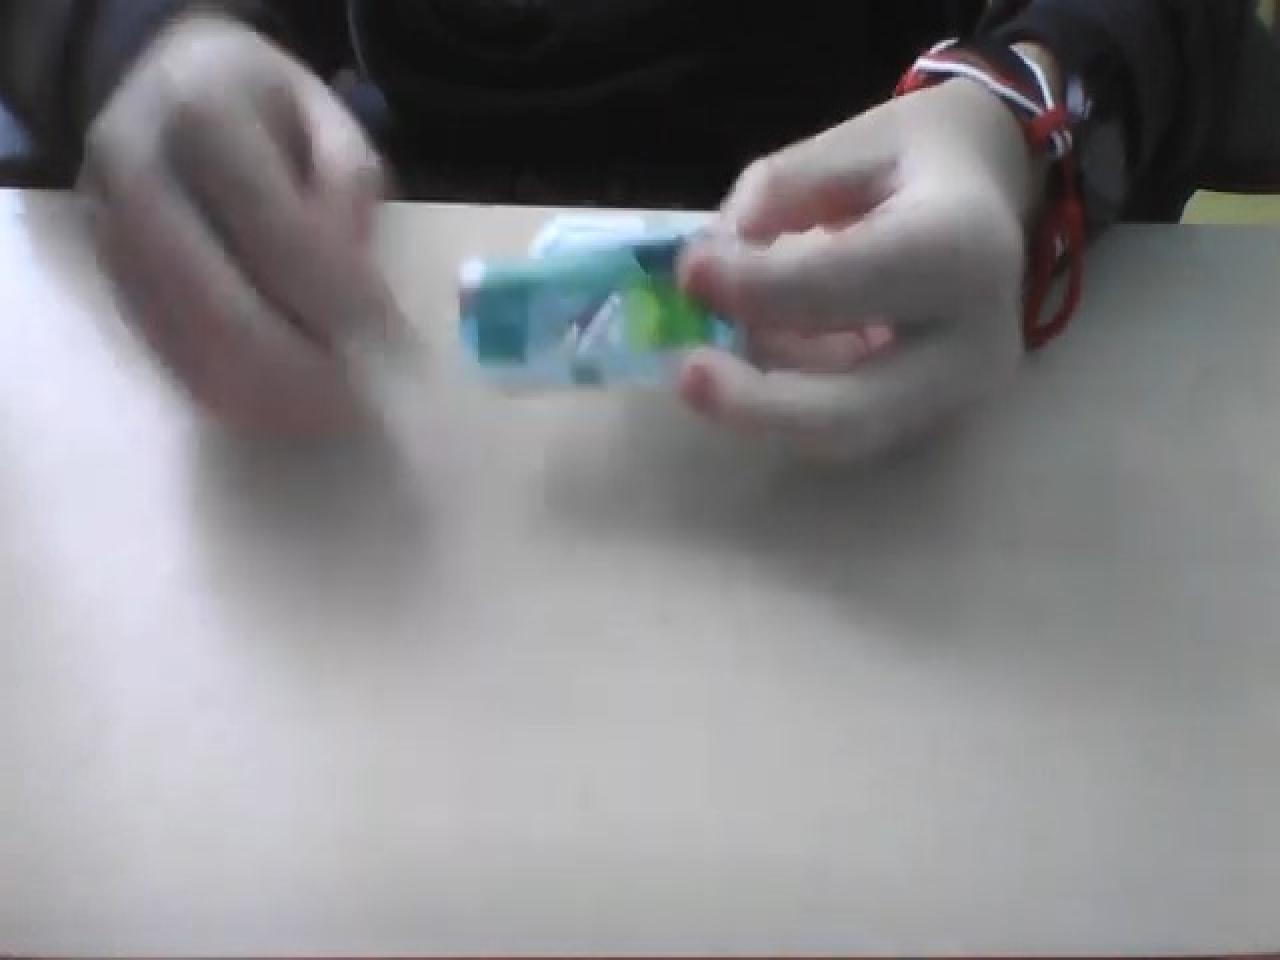100leva: (452, 209, 742, 394)
